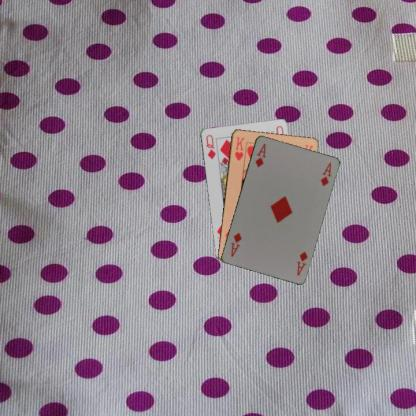Ad: (294, 248, 309, 277), (252, 141, 267, 168)
Kh: (232, 134, 246, 162)
Qd: (203, 132, 217, 160)
